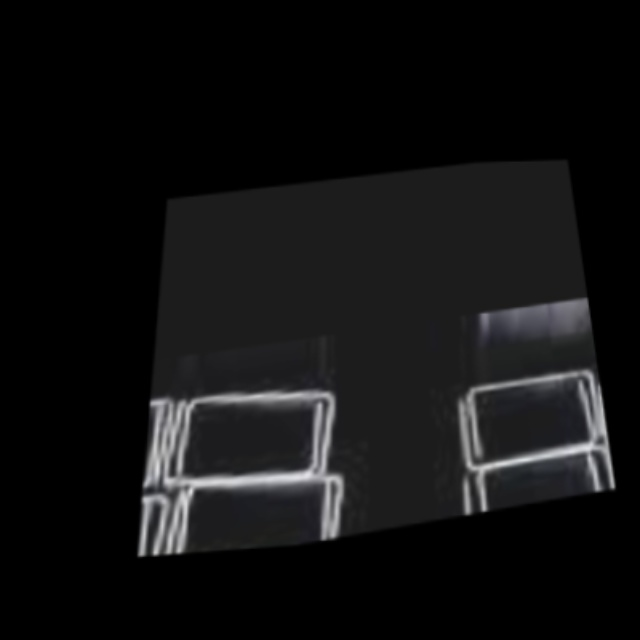Shveller: (180, 382, 333, 493), (167, 385, 320, 492), (180, 466, 346, 554), (165, 473, 331, 555), (459, 380, 596, 464), (472, 373, 604, 457), (479, 450, 616, 512), (465, 459, 606, 515)
